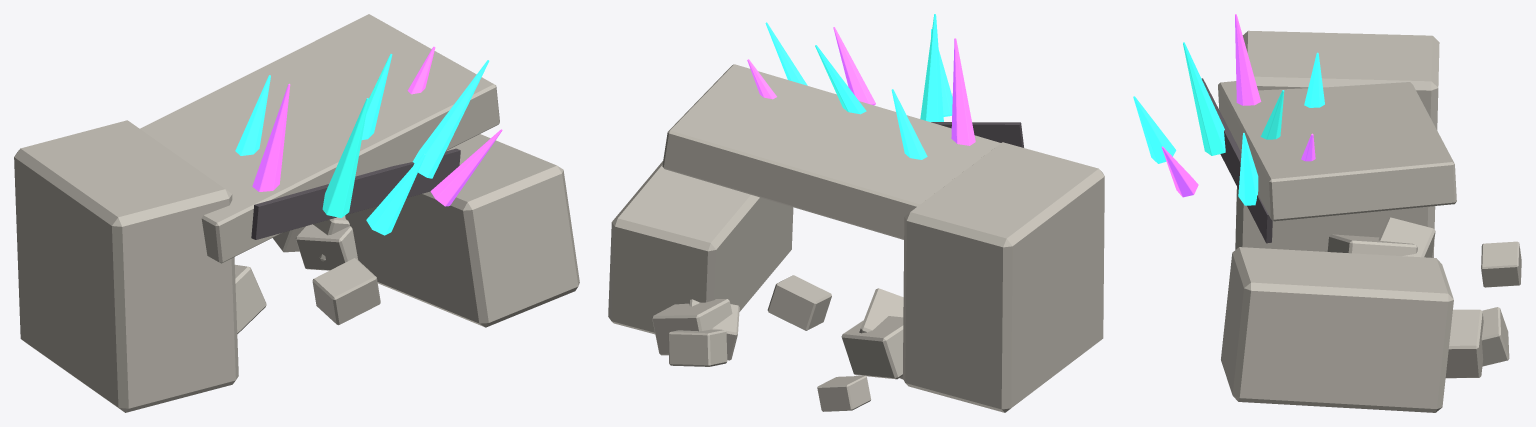
The model's file is runtime.glb.
The picture shows the model from 3 angles, left to right: view 1: azimuth 30°, elevation 25°; view 2: azimuth 150°, elevation 25°; view 3: azimuth 270°, elevation 25°; orthographic projection. The views are drawn at different scales.
Parts seen in each view (by area): view 1: crystal-ruins-crystal-growth-v06_stone_00_nocol, crystal-ruins-crystal-growth-v06_stone_02_nocol, crystal-ruins-crystal-growth-v06_stone_01_nocol, crystal-ruins-crystal-growth-v06_fracture_01_nocol, crystal-ruins-crystal-growth-v06_stone_10_nocol, crystal-ruins-crystal-growth-v06_stone_13_nocol, crystal-ruins-crystal-growth-v06_crystal_05_nocol, crystal-ruins-crystal-growth-v06_crystal_00_nocol, crystal-ruins-crystal-growth-v06_crystal_04_nocol, crystal-ruins-crystal-growth-v06_crystal_06_nocol, crystal-ruins-crystal-growth-v06_stone_12_nocol, crystal-ruins-crystal-growth-v06_crystal_07_nocol (+2 smaller); view 2: crystal-ruins-crystal-growth-v06_stone_00_nocol, crystal-ruins-crystal-growth-v06_stone_02_nocol, crystal-ruins-crystal-growth-v06_stone_01_nocol, crystal-ruins-crystal-growth-v06_stone_11_nocol, crystal-ruins-crystal-growth-v06_stone_10_nocol, crystal-ruins-crystal-growth-v06_stone_15_nocol, crystal-ruins-crystal-growth-v06_stone_16_nocol, crystal-ruins-crystal-growth-v06_stone_14_nocol, crystal-ruins-crystal-growth-v06_crystal_04_nocol, crystal-ruins-crystal-growth-v06_crystal_05_nocol, crystal-ruins-crystal-growth-v06_stone_12_nocol, crystal-ruins-crystal-growth-v06_fracture_01_nocol (+6 smaller); view 3: crystal-ruins-crystal-growth-v06_stone_01_nocol, crystal-ruins-crystal-growth-v06_stone_02_nocol, crystal-ruins-crystal-growth-v06_stone_00_nocol, crystal-ruins-crystal-growth-v06_stone_15_nocol, crystal-ruins-crystal-growth-v06_crystal_05_nocol, crystal-ruins-crystal-growth-v06_stone_14_nocol, crystal-ruins-crystal-growth-v06_fracture_01_nocol, crystal-ruins-crystal-growth-v06_stone_12_nocol, crystal-ruins-crystal-growth-v06_stone_16_nocol, crystal-ruins-crystal-growth-v06_stone_11_nocol, crystal-ruins-crystal-growth-v06_crystal_04_nocol, crystal-ruins-crystal-growth-v06_crystal_06_nocol (+4 smaller).
Part boxes in pixels (box(x1,y1,x2,y2)): crystal-ruins-crystal-growth-v06_stone_00_nocol: box(14, 120, 238, 412); crystal-ruins-crystal-growth-v06_stone_02_nocol: box(140, 14, 499, 263); crystal-ruins-crystal-growth-v06_stone_01_nocol: box(345, 134, 579, 327); crystal-ruins-crystal-growth-v06_fracture_01_nocol: box(251, 148, 460, 239); crystal-ruins-crystal-growth-v06_stone_10_nocol: box(312, 258, 380, 325); crystal-ruins-crystal-growth-v06_stone_13_nocol: box(295, 224, 357, 270); crystal-ruins-crystal-growth-v06_crystal_05_nocol: box(322, 98, 368, 217); crystal-ruins-crystal-growth-v06_crystal_00_nocol: box(412, 60, 489, 178); crystal-ruins-crystal-growth-v06_crystal_04_nocol: box(252, 83, 290, 191); crystal-ruins-crystal-growth-v06_crystal_06_nocol: box(366, 153, 425, 235); crystal-ruins-crystal-growth-v06_stone_12_nocol: box(235, 264, 266, 333); crystal-ruins-crystal-growth-v06_crystal_07_nocol: box(430, 129, 502, 206); crystal-ruins-crystal-growth-v06_stone_00_nocol: box(903, 142, 1104, 412); crystal-ruins-crystal-growth-v06_stone_02_nocol: box(662, 64, 1000, 239); crystal-ruins-crystal-growth-v06_stone_01_nocol: box(608, 161, 793, 334); crystal-ruins-crystal-growth-v06_stone_11_nocol: box(841, 316, 903, 379); crystal-ruins-crystal-growth-v06_stone_10_nocol: box(767, 275, 831, 330); crystal-ruins-crystal-growth-v06_stone_15_nocol: box(652, 299, 732, 355); crystal-ruins-crystal-growth-v06_stone_16_nocol: box(668, 329, 727, 366); crystal-ruins-crystal-growth-v06_stone_14_nocol: box(817, 375, 871, 411); crystal-ruins-crystal-growth-v06_crystal_04_nocol: box(951, 38, 975, 145); crystal-ruins-crystal-growth-v06_crystal_05_nocol: box(920, 14, 943, 122); crystal-ruins-crystal-growth-v06_stone_12_nocol: box(859, 288, 903, 379); crystal-ruins-crystal-growth-v06_fracture_01_nocol: box(931, 122, 1023, 147); crystal-ruins-crystal-growth-v06_stone_01_nocol: box(1221, 247, 1453, 412); crystal-ruins-crystal-growth-v06_stone_02_nocol: box(1218, 81, 1456, 221); crystal-ruins-crystal-growth-v06_stone_00_nocol: box(1235, 30, 1439, 257); crystal-ruins-crystal-growth-v06_stone_15_nocol: box(1445, 309, 1483, 378); crystal-ruins-crystal-growth-v06_crystal_05_nocol: box(1183, 42, 1225, 155); crystal-ruins-crystal-growth-v06_stone_14_nocol: box(1481, 241, 1521, 287); crystal-ruins-crystal-growth-v06_fracture_01_nocol: box(1201, 78, 1272, 243); crystal-ruins-crystal-growth-v06_stone_12_nocol: box(1327, 234, 1417, 255); crystal-ruins-crystal-growth-v06_stone_16_nocol: box(1481, 307, 1509, 366); crystal-ruins-crystal-growth-v06_stone_11_nocol: box(1378, 217, 1435, 257); crystal-ruins-crystal-growth-v06_crystal_04_nocol: box(1235, 14, 1261, 105); crystal-ruins-crystal-growth-v06_crystal_06_nocol: box(1133, 96, 1176, 163).
Bounding box in the file's own units: 5.77 × 3.67 × 4.52.
